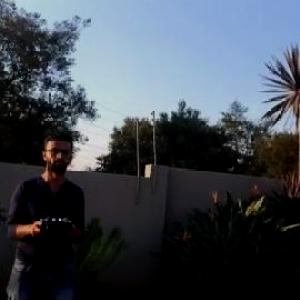follow: (3, 120, 92, 299)
